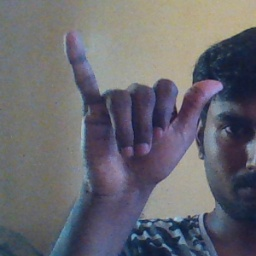J: (58, 22, 225, 189)
